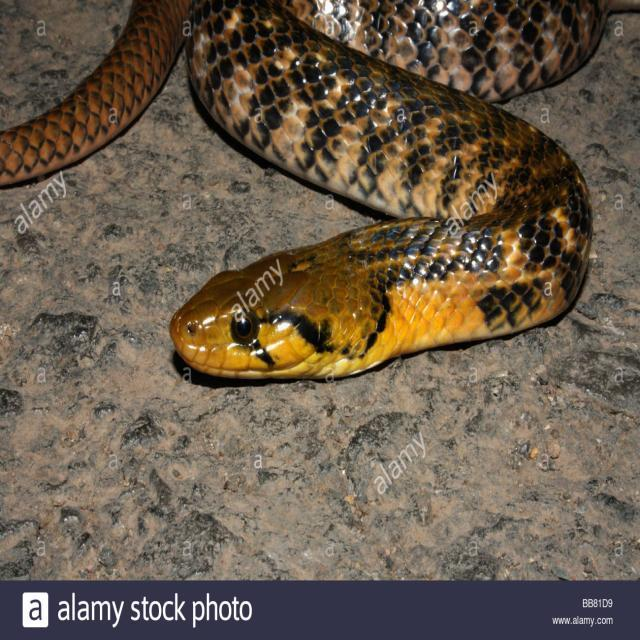Snake: (0, 0, 638, 382)
